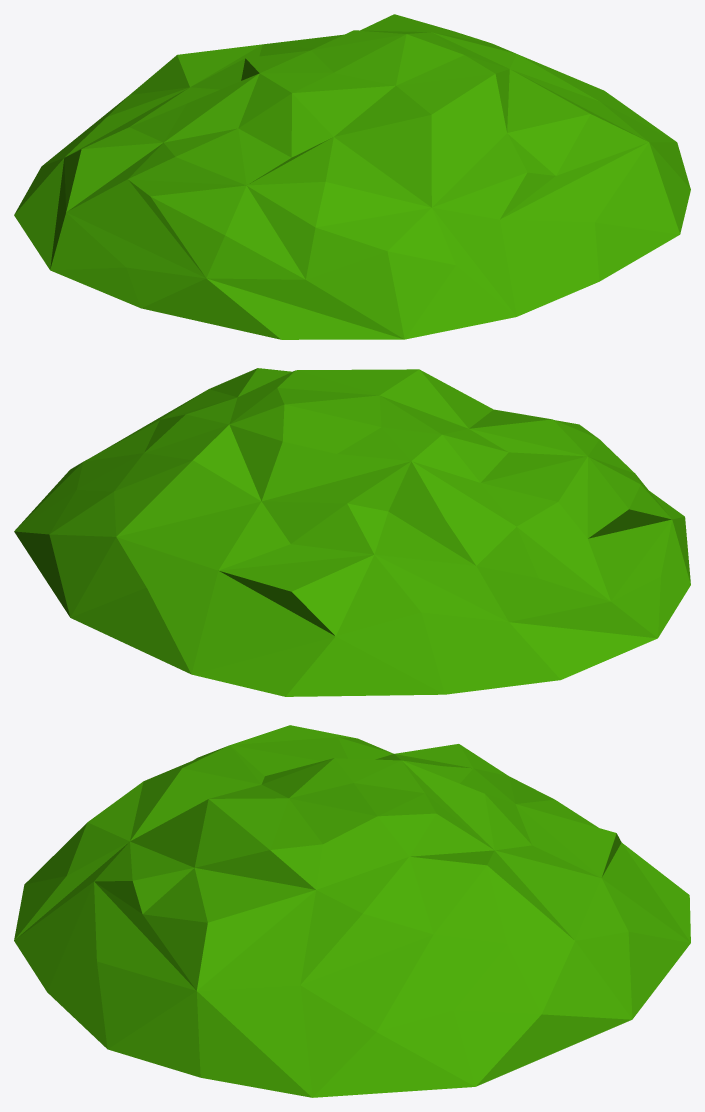
Rendered from (old)GEO_leaf_03.fbx.
3 renders of one model, top to bottom at view 1: azimuth 30°, elevation 25°; view 2: azimuth 150°, elevation 25°; view 3: azimuth 270°, elevation 25°, orthographic. The views are drawn at different scales.
Visible parts, largest first — view 1: GEO_leaf_03; view 2: GEO_leaf_03; view 3: GEO_leaf_03.
Part boxes in pixels (x1=…): GEO_leaf_03: x1=14, y1=14, x2=690, y2=339; GEO_leaf_03: x1=14, y1=368, x2=690, y2=696; GEO_leaf_03: x1=14, y1=725, x2=690, y2=1097.
Size of the model in its own units: 90.23 by 20.73 by 81.81.
